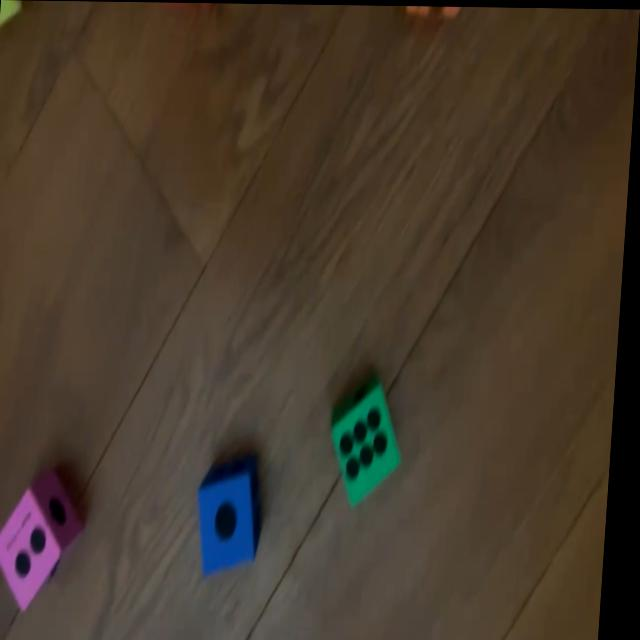cube: (332, 381, 410, 506), (200, 457, 269, 576)
